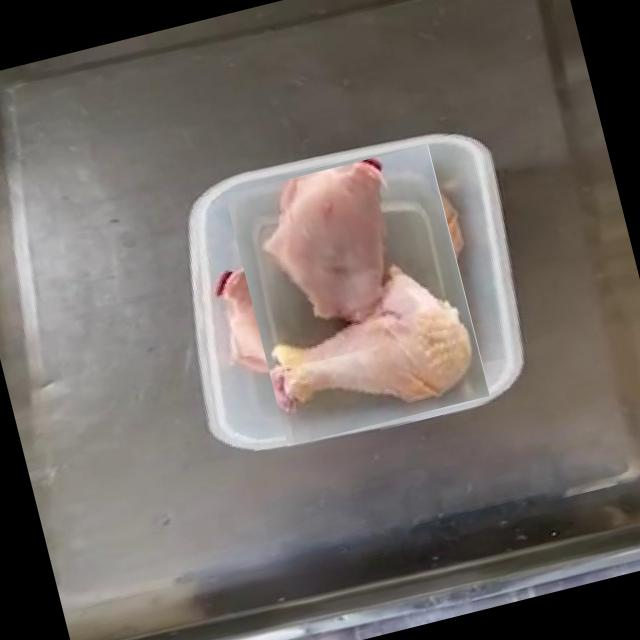chicken: (215, 153, 499, 437)
